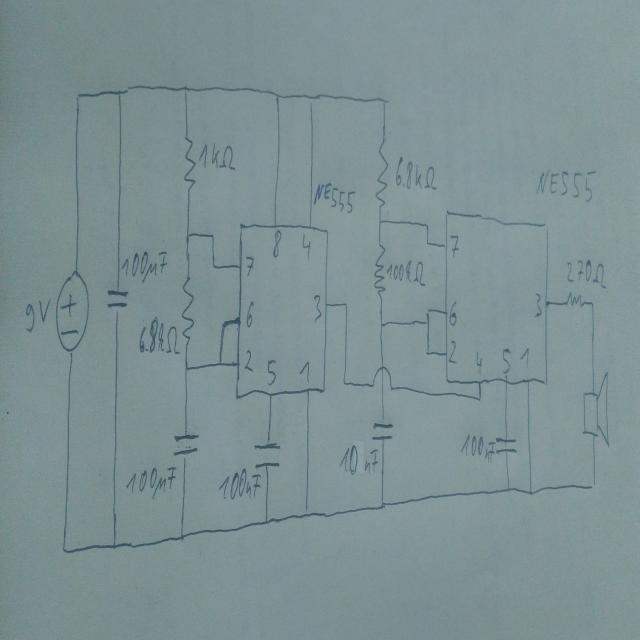capacitor: (253, 442, 281, 470), (172, 432, 200, 458), (371, 420, 394, 442), (106, 288, 129, 308), (494, 436, 518, 454)
crossover: (372, 364, 393, 393)
junction: (106, 534, 120, 563), (58, 536, 73, 561), (306, 90, 316, 112), (380, 92, 390, 113), (588, 476, 599, 494), (114, 85, 124, 104), (75, 88, 84, 108), (181, 79, 190, 99), (302, 504, 311, 522), (184, 228, 192, 248), (262, 514, 271, 530), (177, 528, 186, 544), (274, 89, 282, 106), (376, 214, 384, 229), (342, 298, 350, 313), (182, 361, 190, 376), (425, 344, 432, 361), (379, 496, 386, 513), (210, 230, 217, 246), (219, 317, 226, 333), (217, 354, 224, 370), (588, 297, 596, 311), (424, 219, 431, 233), (342, 375, 348, 390), (424, 234, 430, 248), (425, 306, 432, 318), (424, 316, 431, 328), (505, 482, 512, 494), (378, 319, 384, 331), (211, 258, 217, 270), (477, 393, 483, 405), (528, 486, 534, 498)
resistor: (374, 134, 390, 210), (181, 270, 194, 348), (373, 239, 388, 303), (182, 133, 196, 197), (565, 290, 585, 309)
source: (54, 269, 90, 354)
text: (535, 166, 596, 205), (126, 464, 178, 502), (139, 316, 181, 356), (121, 250, 168, 285), (395, 154, 438, 191), (217, 466, 262, 500), (314, 181, 356, 215), (566, 258, 608, 290), (198, 139, 236, 173), (460, 429, 496, 464), (338, 444, 378, 475), (386, 258, 426, 288), (24, 296, 52, 335), (301, 232, 312, 263), (272, 228, 282, 260), (313, 292, 322, 324), (450, 233, 460, 261), (267, 357, 276, 388), (300, 358, 310, 385), (502, 347, 511, 375), (448, 339, 458, 364), (244, 349, 254, 374), (519, 346, 529, 369), (245, 254, 254, 279), (246, 300, 254, 328), (449, 299, 457, 326), (534, 292, 542, 318), (475, 350, 483, 376)
